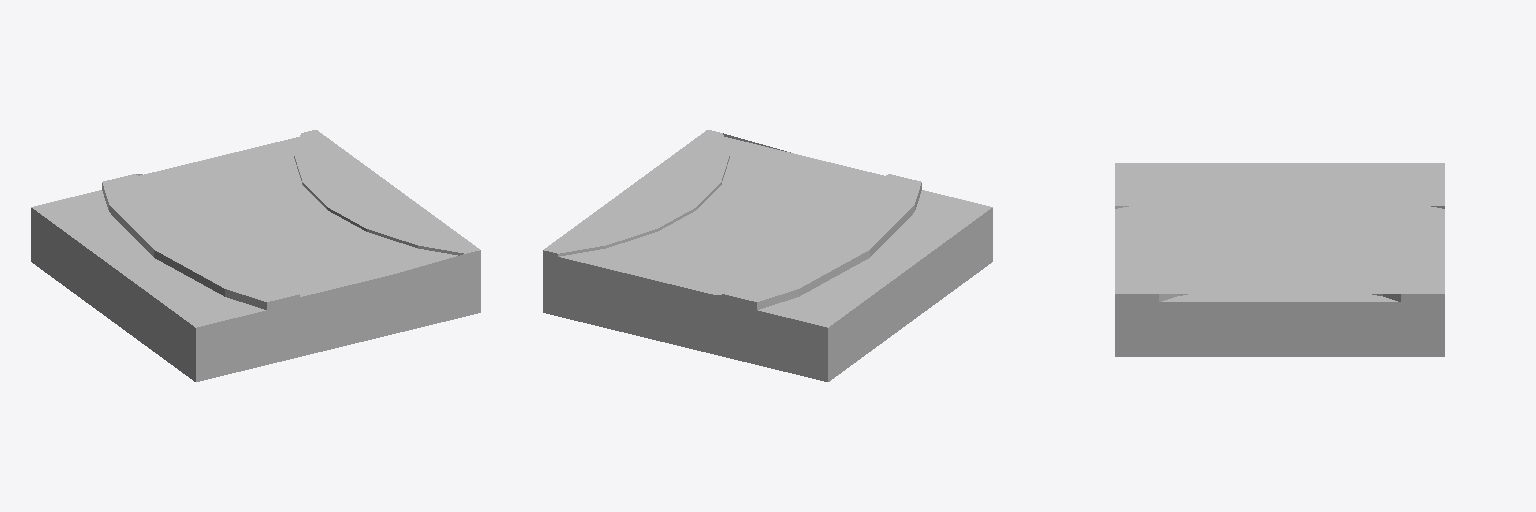
Rendered from roadTile_048.obj.
The picture shows the model from 3 angles: view 1: azimuth 30°, elevation 25°; view 2: azimuth 150°, elevation 25°; view 3: azimuth 270°, elevation 25°; orthographic projection.
Visible parts, largest first — view 1: Mesh1 Group1 Model; view 2: Mesh1 Group1 Model; view 3: Mesh1 Group1 Model.
Part boxes in pixels (bbox=[...]): Mesh1 Group1 Model: bbox=[31, 130, 480, 381]; Mesh1 Group1 Model: bbox=[543, 130, 992, 381]; Mesh1 Group1 Model: bbox=[1115, 163, 1444, 356].
Bounding box in the file's own units: 3 × 0.63 × 3.